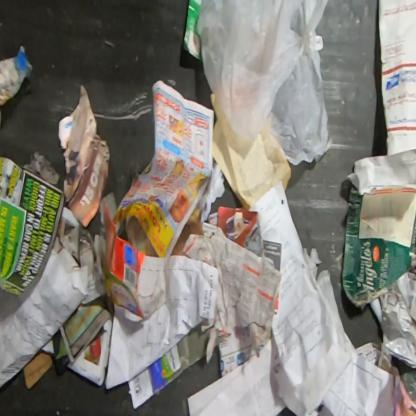cardboard: (340, 148, 415, 314), (377, 0, 415, 160), (22, 348, 54, 389)
soft_plastic: (196, 0, 332, 166), (390, 354, 416, 408)
